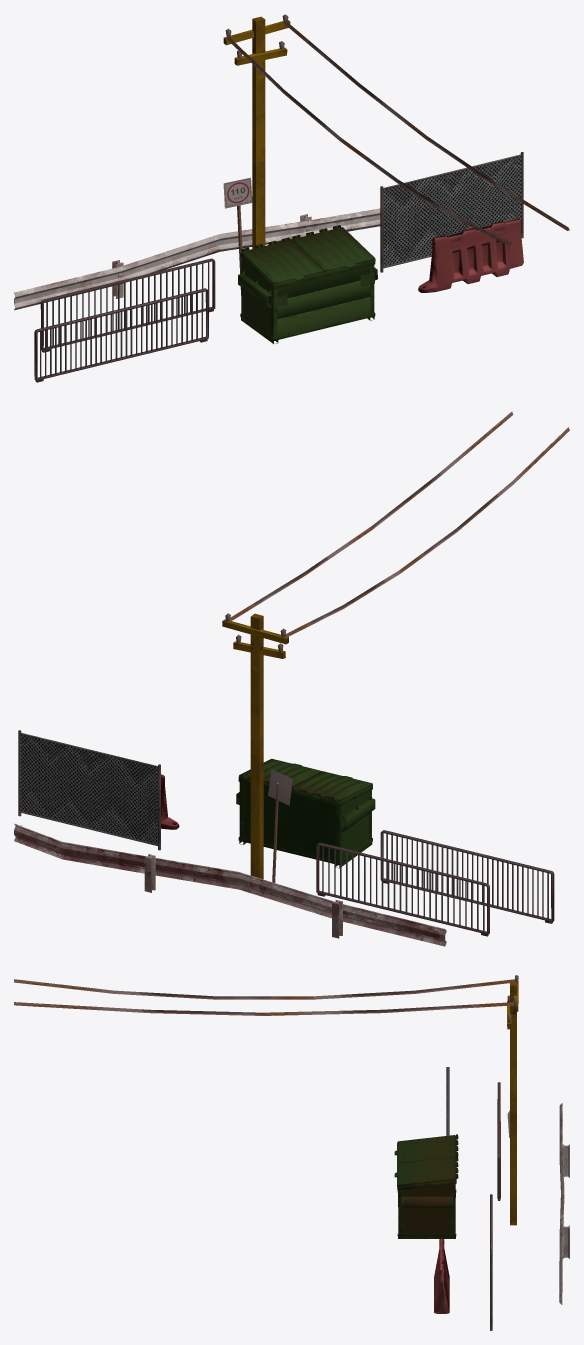
Rendered from Envi stage 1 part 2.fbx.
3 views of the same model, one above another, from view 1: azimuth 30°, elevation 25°; view 2: azimuth 150°, elevation 25°; view 3: azimuth 270°, elevation 25° (orthographic). The views are drawn at different scales.
Visible parts, largest first — view 1: DumpsterMetal_MetalGreen, Plane, Barrier_MetalDark, FencesLow_MetalLight.001, BarricadePlastic_PlasticRed, pylon01, FencesLow_MetalLight.002, pylon_line01, sign03; view 2: Plane, DumpsterMetal_MetalGreen, Barrier_MetalDark, pylon01, FencesLow_MetalLight.001, FencesLow_MetalLight.002, pylon_line01, sign03; view 3: DumpsterMetal_MetalGreen, pylon_line01, pylon01, Barrier_MetalDark, BarricadePlastic_PlasticRed, FencesLow_MetalLight.002.
Part boxes in pixels (box(x1,y1,x2,y2)): DumpsterMetal_MetalGreen: box(238, 225, 377, 343); Plane: box(380, 152, 523, 272); Barrier_MetalDark: box(14, 208, 380, 310); FencesLow_MetalLight.001: box(34, 288, 208, 382); BarricadePlastic_PlasticRed: box(418, 219, 523, 292); pylon01: box(223, 14, 290, 248); FencesLow_MetalLight.002: box(40, 258, 215, 352); pylon_line01: box(226, 20, 569, 246); sign03: box(223, 177, 252, 295); Plane: box(18, 730, 160, 850); DumpsterMetal_MetalGreen: box(236, 758, 375, 868); Barrier_MetalDark: box(14, 823, 446, 946); pylon01: box(222, 613, 288, 879); FencesLow_MetalLight.001: box(380, 830, 554, 923); FencesLow_MetalLight.002: box(316, 843, 489, 936); pylon_line01: box(229, 411, 569, 636); sign03: box(268, 769, 292, 882); DumpsterMetal_MetalGreen: box(394, 1134, 458, 1238); pylon_line01: box(14, 979, 515, 1015); pylon01: box(507, 975, 518, 1225); Barrier_MetalDark: box(559, 1103, 569, 1304); BarricadePlastic_PlasticRed: box(434, 1239, 449, 1313); FencesLow_MetalLight.002: box(497, 1082, 500, 1200).
Size of the model in its own units: 34.72 by 17.65 by 36.96.
1 material, 1 textured.
